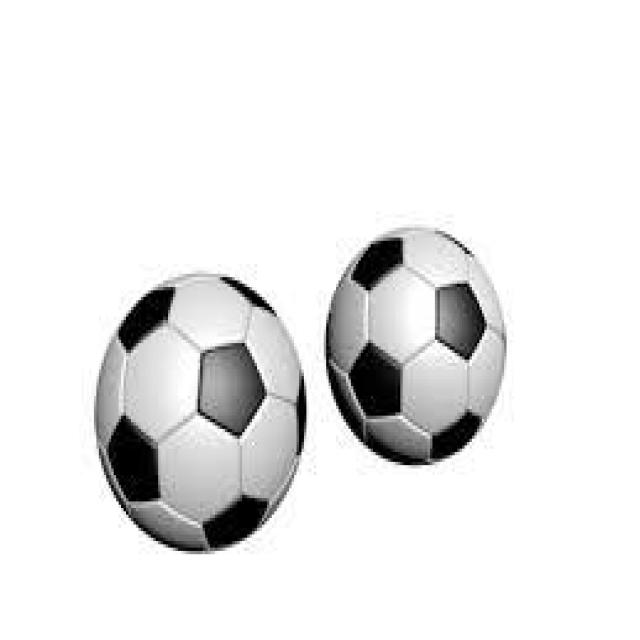football: (89, 267, 306, 551), (321, 208, 512, 465)
